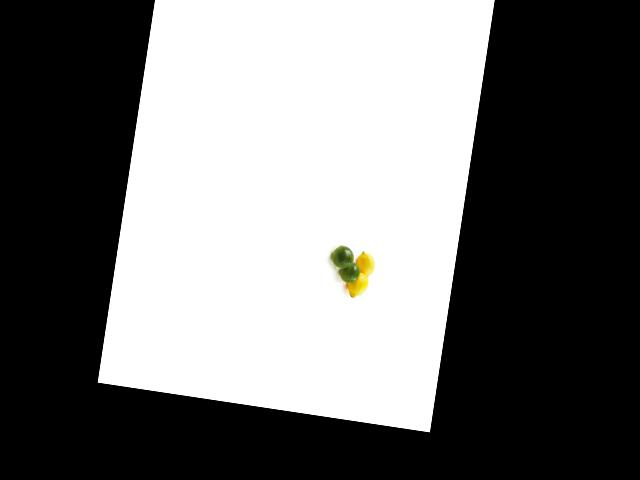lemon: (330, 241, 356, 270)
